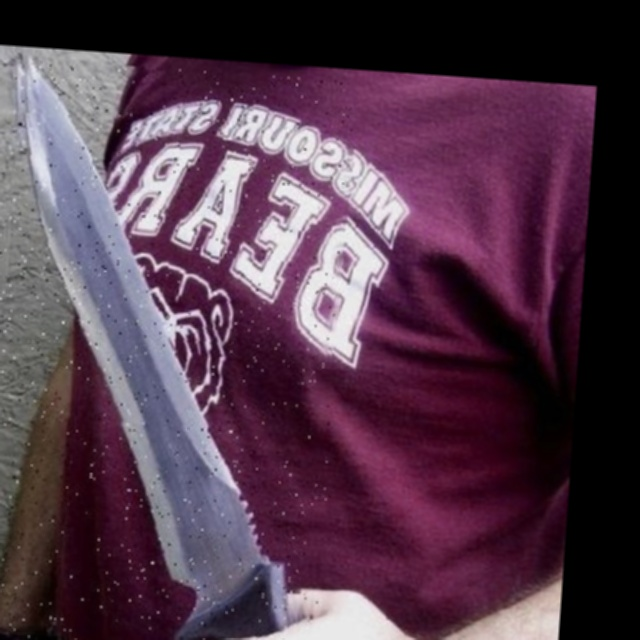Sharp-Object: (0, 57, 355, 640)
